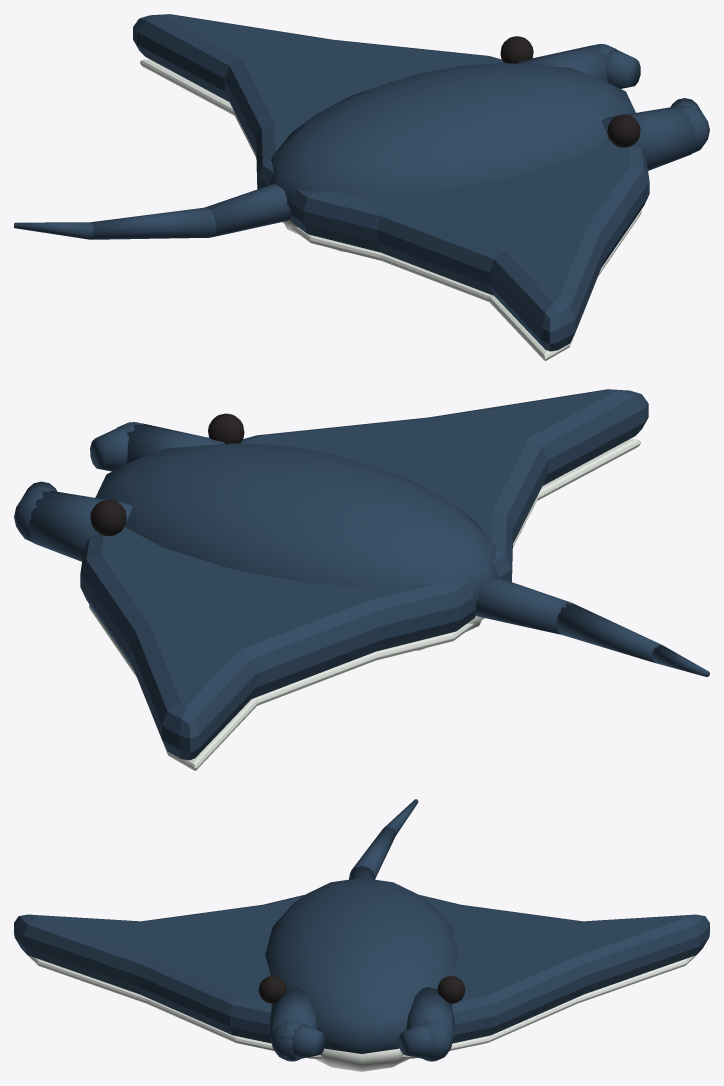
The model's file is manta_ray.glb.
3 views of the same model, one above another, from view 1: azimuth 30°, elevation 25°; view 2: azimuth 150°, elevation 25°; view 3: azimuth 270°, elevation 25° (orthographic). The views are drawn at different scales.
Parts seen in each view (by area): view 1: manta_ray; view 2: manta_ray; view 3: manta_ray.
Boxes of the visible parts, <box> form: manta_ray: <box>14,14,709,360</box>; manta_ray: <box>14,389,709,770</box>; manta_ray: <box>14,799,709,1071</box>.
Size of the model in its own units: 1.55 by 0.3453 by 1.79.
